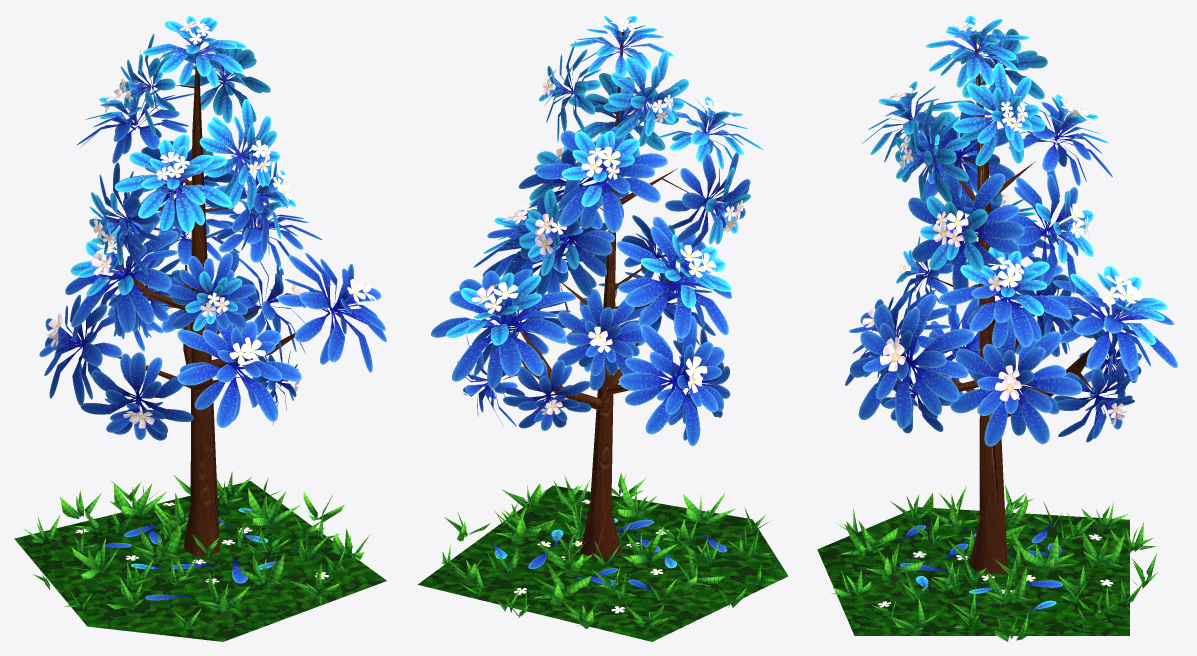
Rendered from NAT_TreePainted_lod.glb.
3 views of the same model, side by side, from view 1: azimuth 30°, elevation 25°; view 2: azimuth 150°, elevation 25°; view 3: azimuth 270°, elevation 25° (orthographic).
Parts seen in each view (by area): view 1: Object_3, Object_2; view 2: Object_3, Object_2; view 3: Object_3, Object_2.
Boxes of the visible parts, x1,y1,x2,y2 form: Object_3: [22, 16, 386, 629]; Object_2: [14, 481, 386, 641]; Object_3: [431, 16, 778, 631]; Object_2: [418, 485, 788, 641]; Object_3: [830, 15, 1177, 641]; Object_2: [817, 507, 1129, 635].
Size of the model in its own units: 2.89 by 4.99 by 2.98.
Materials: 2 (2 with a texture image).
